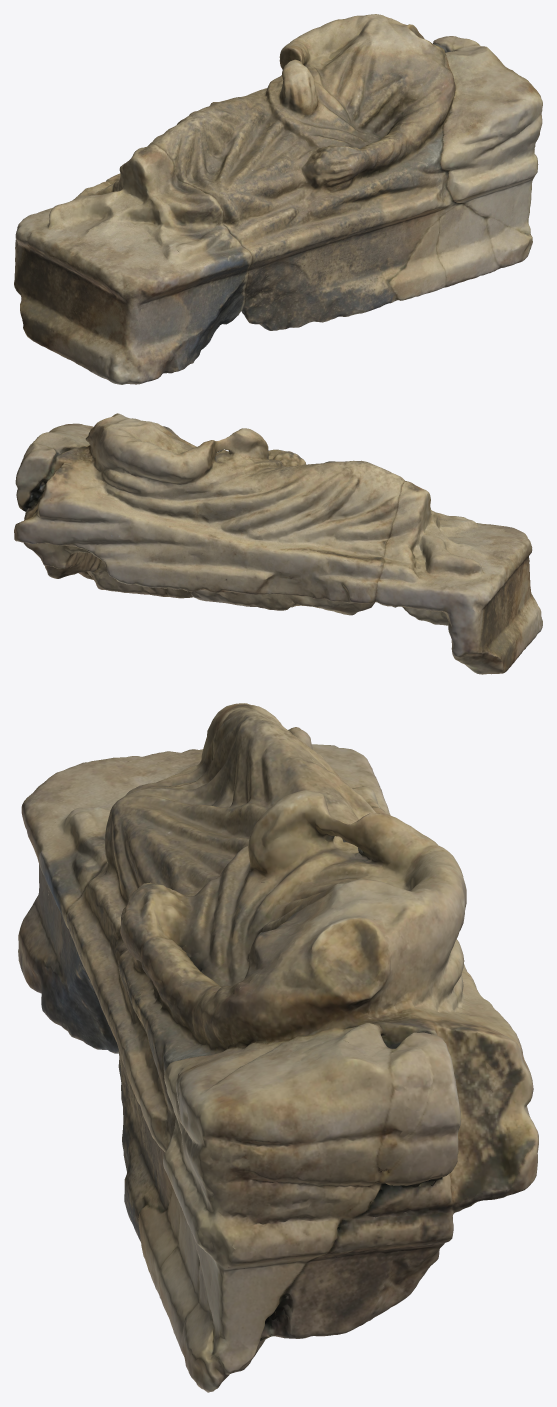
The picture shows the model from 3 angles, top to bottom: view 1: azimuth 30°, elevation 25°; view 2: azimuth 150°, elevation 25°; view 3: azimuth 270°, elevation 25°; orthographic projection. The views are drawn at different scales.
Parts seen in each view (by area): view 1: Geode; view 2: Geode; view 3: Geode.
Boxes of the visible parts, <box> form: Geode: <box>14,14,542,384</box>; Geode: <box>14,413,542,674</box>; Geode: <box>18,703,538,1392</box>.
Size of the model in its own units: 8.4 by 3.66 by 4.09.
1 material, 1 textured.
